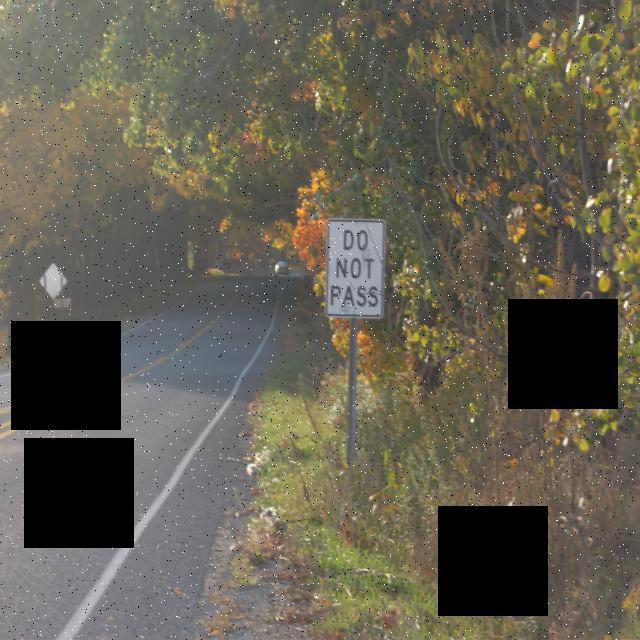regulatory: (328, 221, 383, 316)
